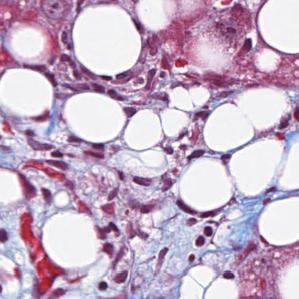inflammation: (172, 203, 224, 251)
